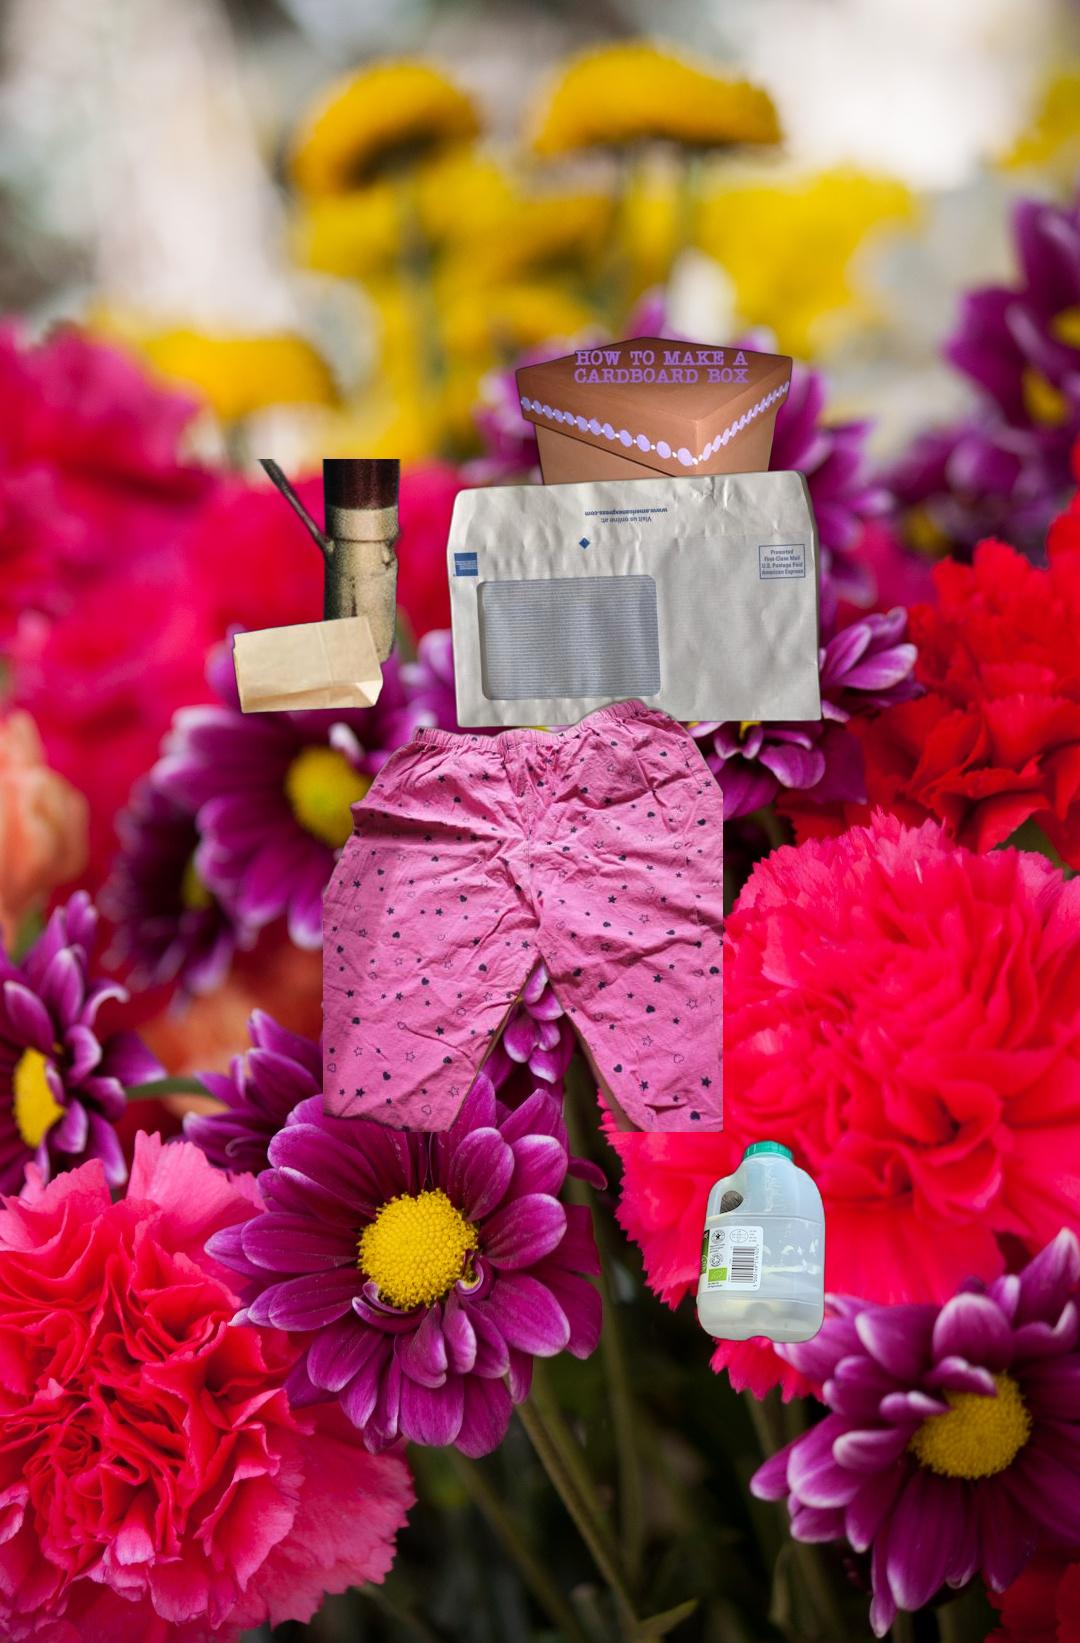clothes: (323, 692, 723, 1132)
paper: (441, 467, 826, 732)
paper-bag: (230, 459, 411, 716)
plastic-bottles: (691, 1134, 829, 1348)
trashbox-cardboard: (513, 334, 794, 564)
